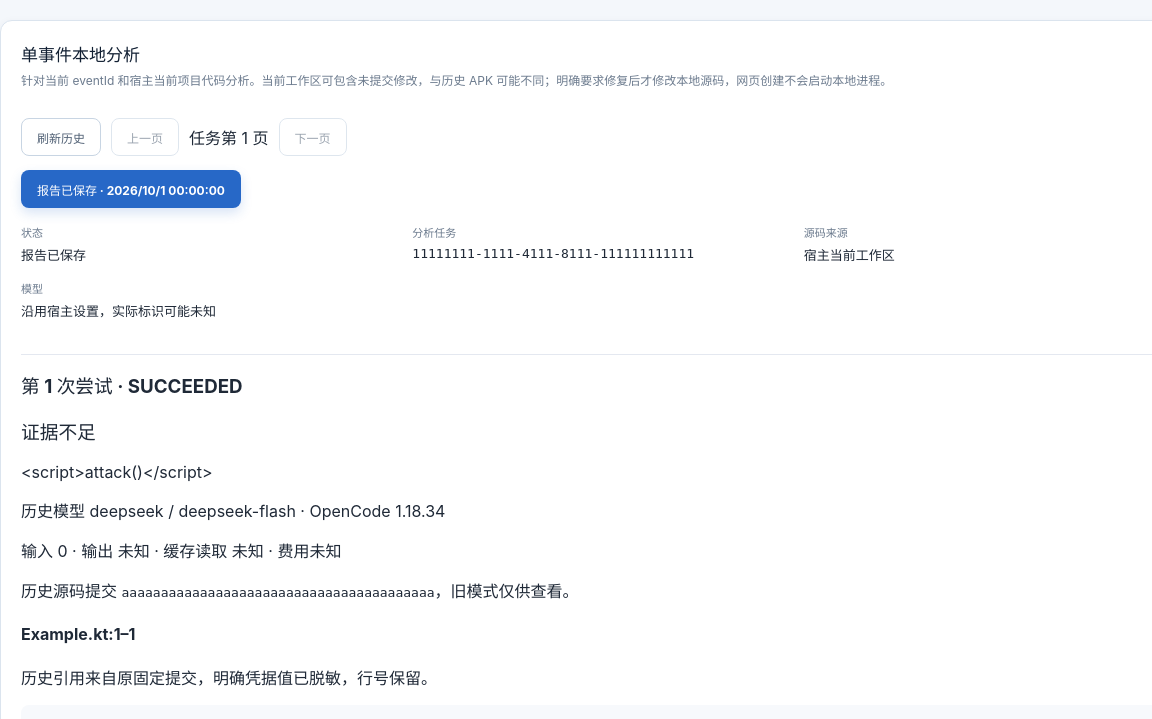
Test case: CrashAnalysisPanel › escapes malicious result text and distinguishes insufficient evidence from expired content
The width and height of the screenshot is (1152, 719).
Step 1. Click the button "刷新历史" → (61, 137), box left=21, top=118, right=101, bottom=156
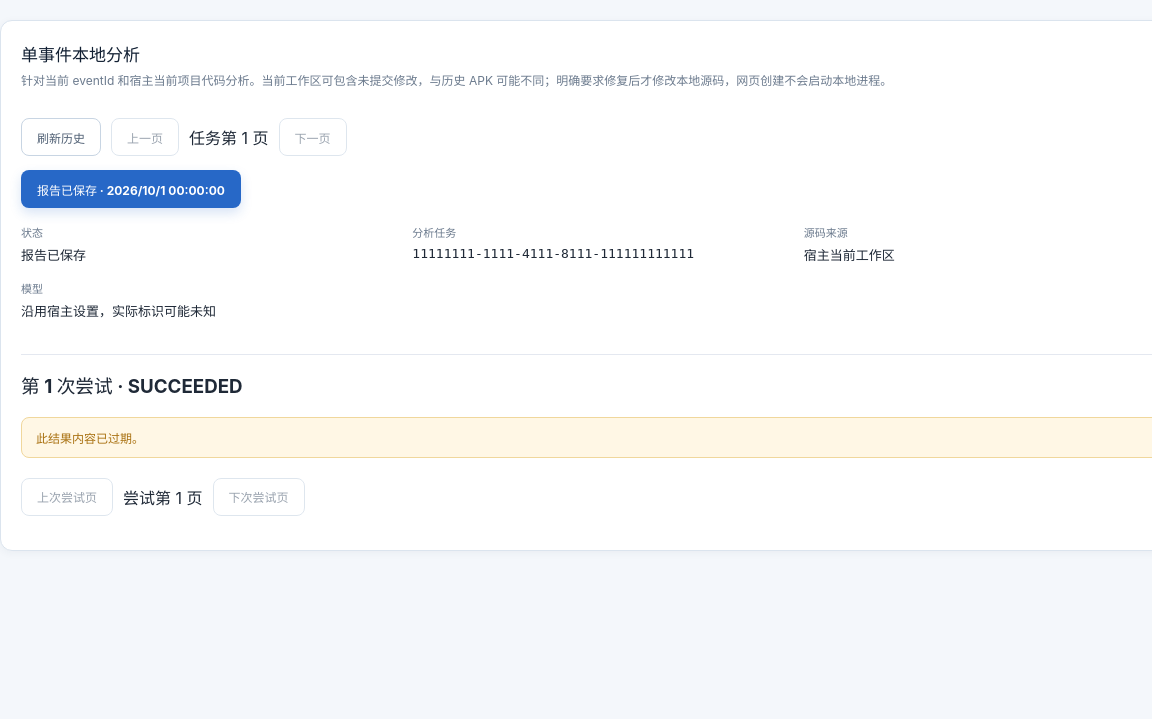
Check: the text "此结果内容已过期" is shown, box left=36, top=431, right=144, bottom=446
Check: the text "attack()" is gone
